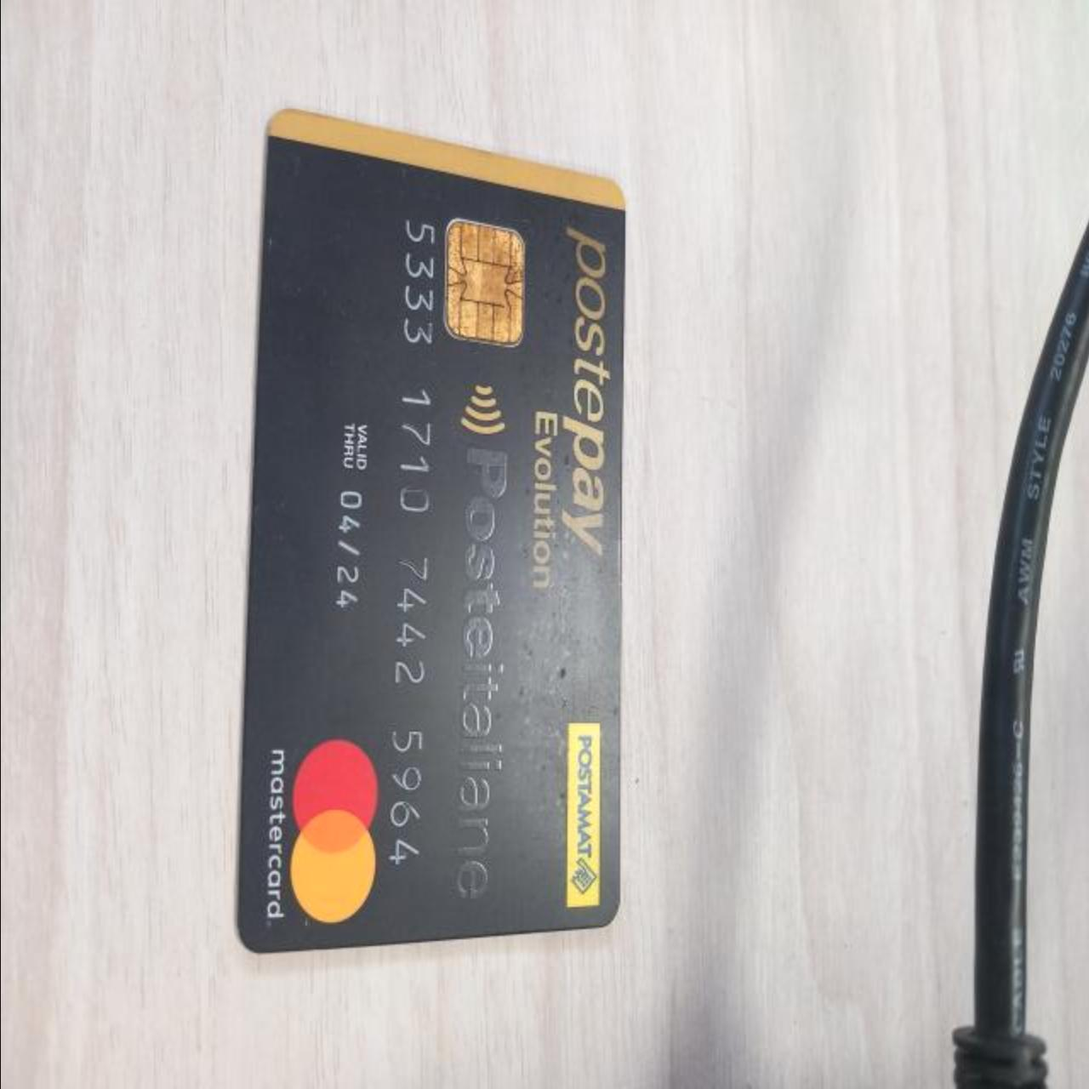credit_card: (225, 105, 643, 973)
